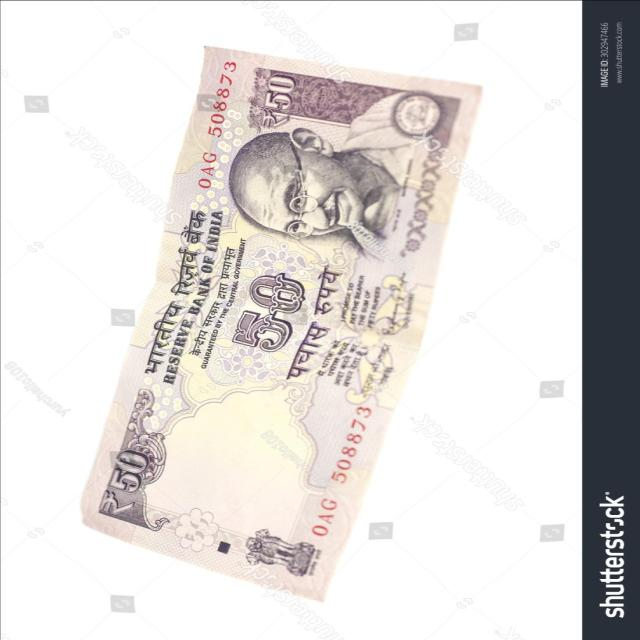50IndianRupees: (72, 49, 481, 580)
